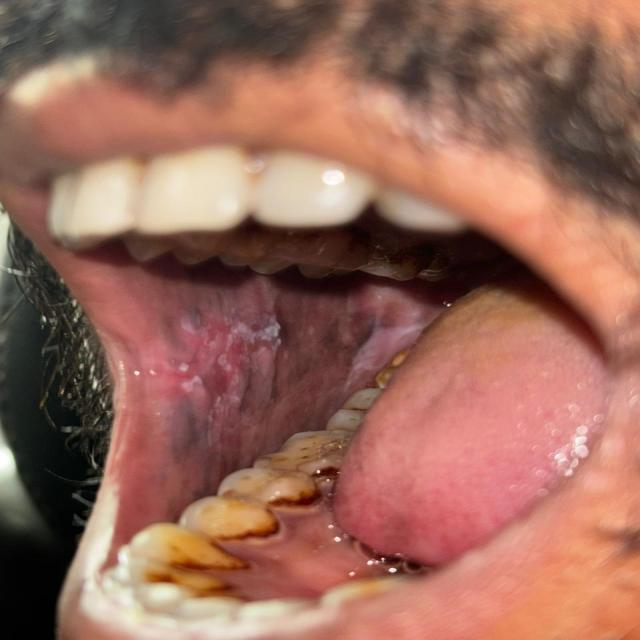leukoplakia-like-detection: (139, 282, 446, 509)
processing_area: (93, 270, 597, 596)
